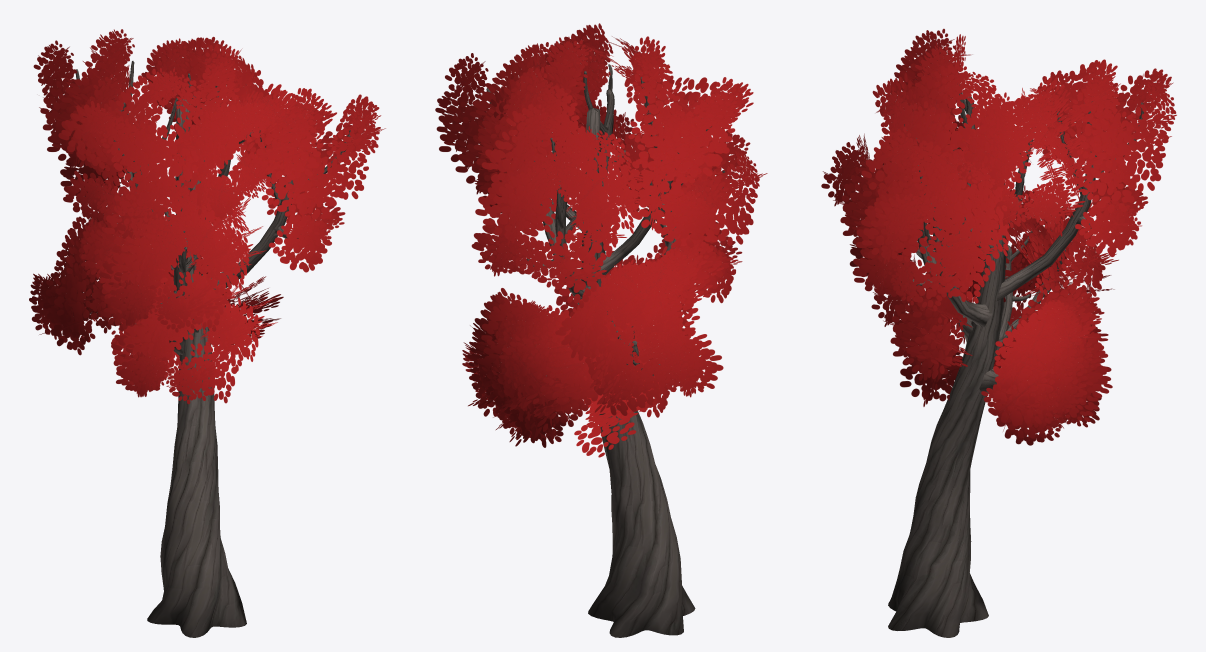
File: twisted-tree.glb
3 views of the same model, side by side, from view 1: azimuth 30°, elevation 25°; view 2: azimuth 150°, elevation 25°; view 3: azimuth 270°, elevation 25° (orthographic). The views are drawn at different scales.
Parts seen in each view (by area): view 1: TwistedTree_5; view 2: TwistedTree_5; view 3: TwistedTree_5.
Part boxes in pixels (bbox=[...]): TwistedTree_5: bbox=[29, 29, 385, 637]; TwistedTree_5: bbox=[435, 23, 767, 637]; TwistedTree_5: bbox=[821, 28, 1176, 637].
Bounding box in the file's own units: 9.49 × 15.66 × 9.39.
2 materials, 2 textured.
